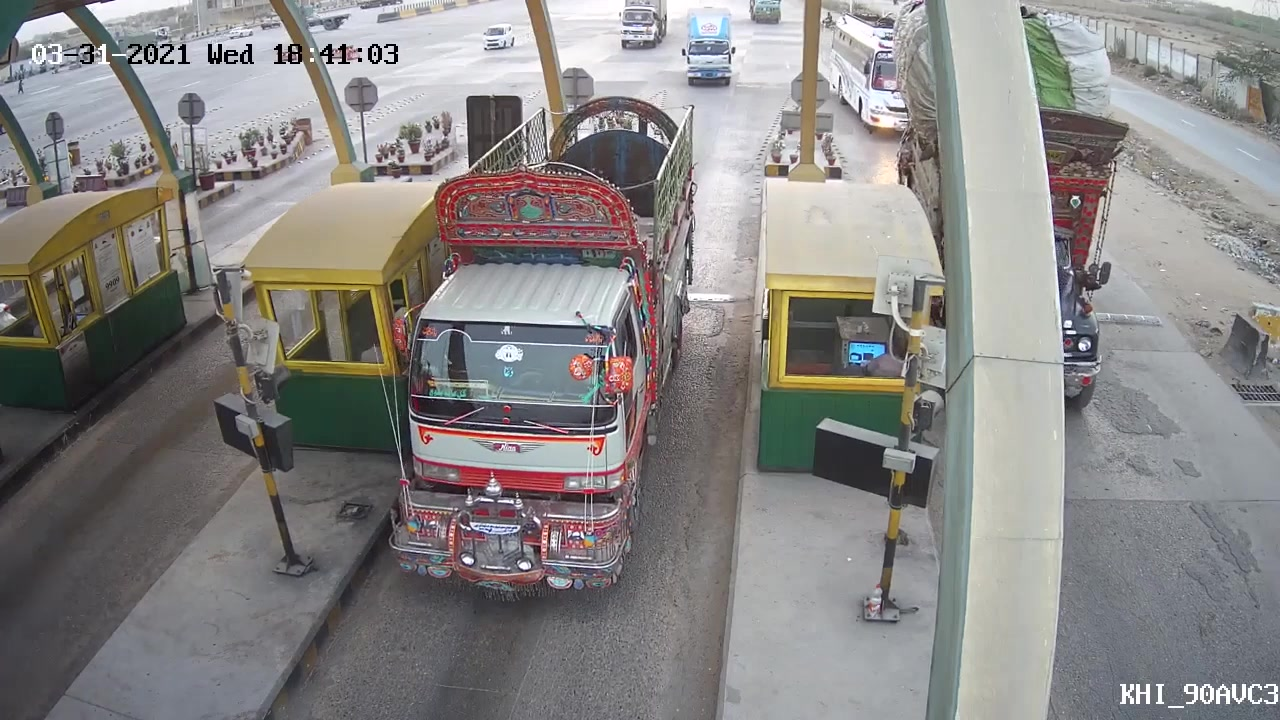F5: (359, 93, 712, 610)
